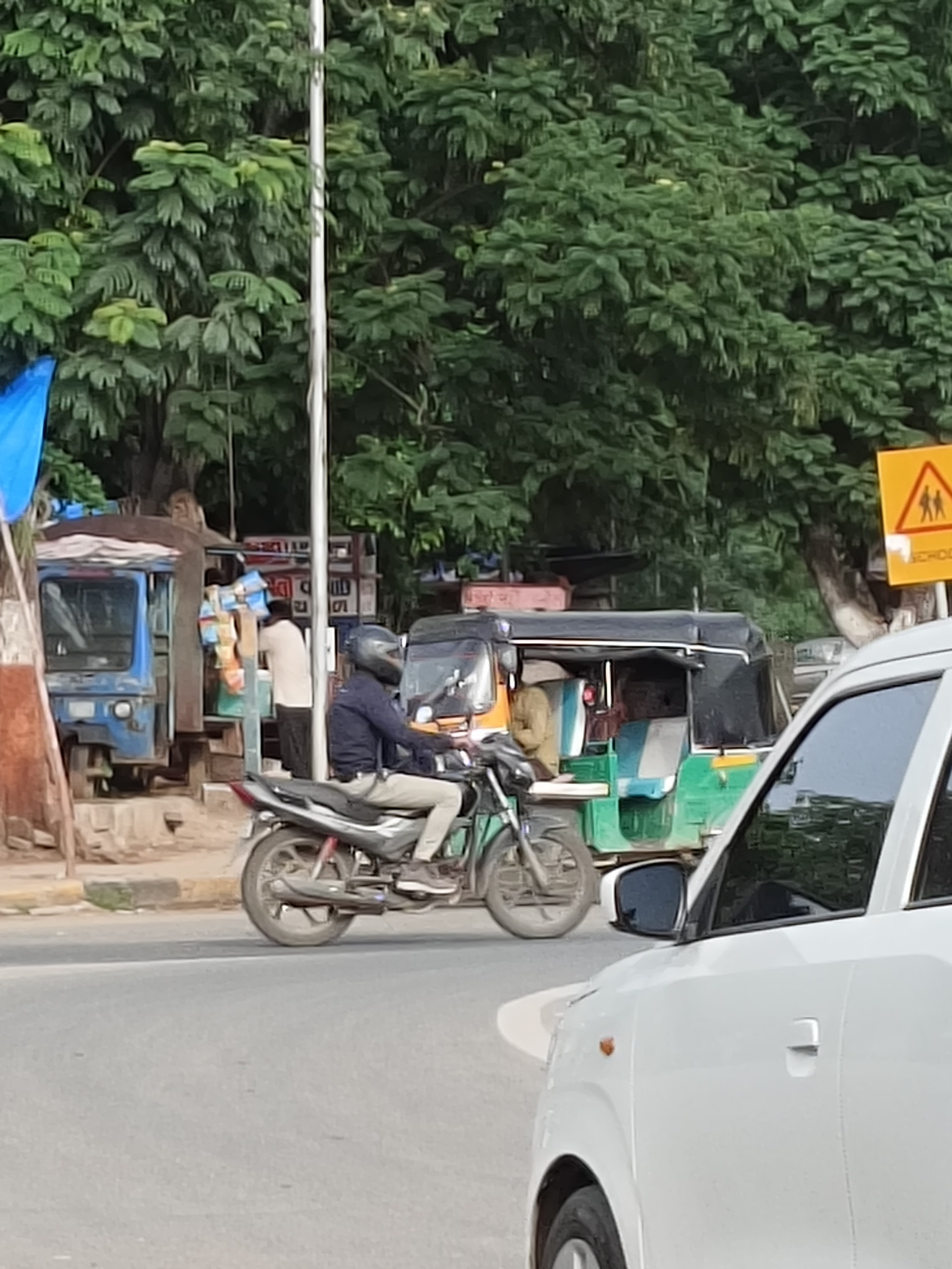BikeWithRider: (216, 608, 618, 964)
Helmet: (329, 614, 428, 702)
